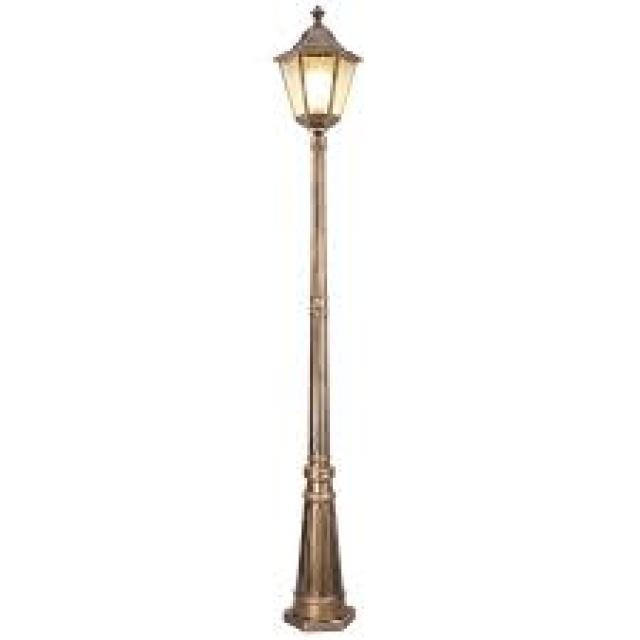Street Light: (273, 2, 364, 628)
